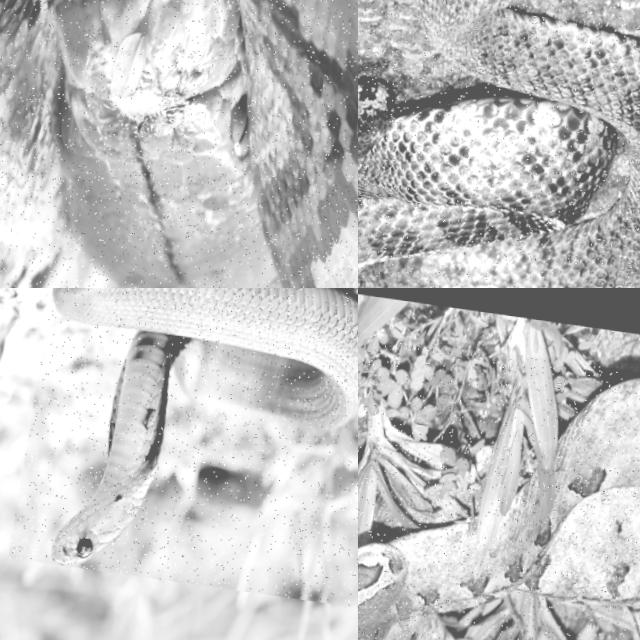Calloselasma rhodostoma: (358, 379, 639, 639)
Malayopython reticulatus: (0, 0, 357, 287)
Naja siamensis: (56, 288, 357, 565)
Ovophis monticola: (358, 0, 639, 287)
snake: (0, 0, 357, 287), (56, 288, 357, 565), (358, 0, 639, 287), (358, 379, 639, 639)
